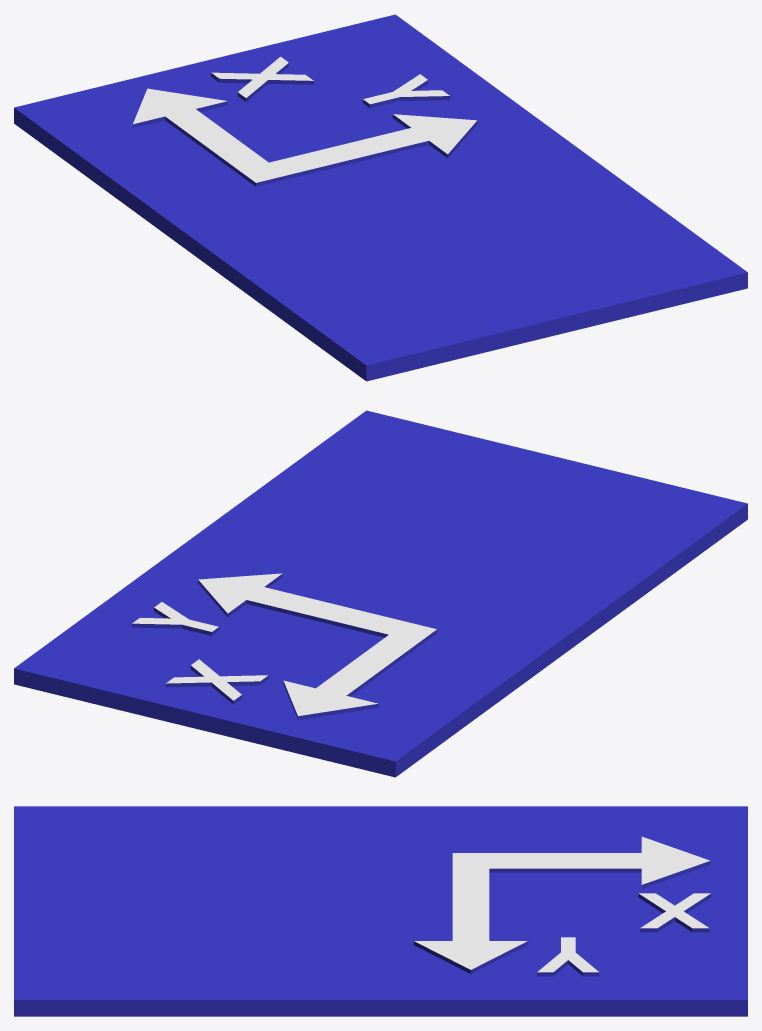
Rendered from model_qmc5883-wyjCpvxj.glb.
3 renders of one model, top to bottom at view 1: azimuth 30°, elevation 25°; view 2: azimuth 150°, elevation 25°; view 3: azimuth 270°, elevation 25°, orthographic. The views are drawn at different scales.
Size of the model in its own units: 10 by 1.3 by 16.
